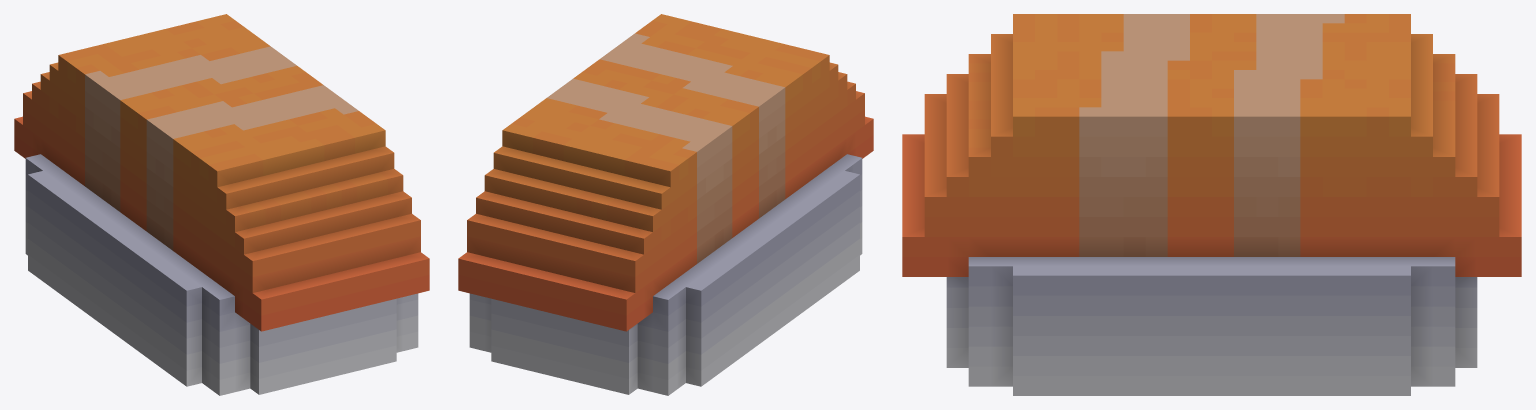
Rendered from sushi.glb.
3 renders of one model, left to right at view 1: azimuth 30°, elevation 25°; view 2: azimuth 150°, elevation 25°; view 3: azimuth 270°, elevation 25°, orthographic. The views are drawn at different scales.
Parts seen in each view (by area): view 1: voxels; view 2: voxels; view 3: voxels.
Part boxes in pixels (x1,y1,x2,y2): voxels: (14, 14, 429, 395); voxels: (458, 14, 873, 395); voxels: (902, 14, 1521, 395).
Size of the model in its own units: 0.1115 by 0.0966 by 0.2081.
